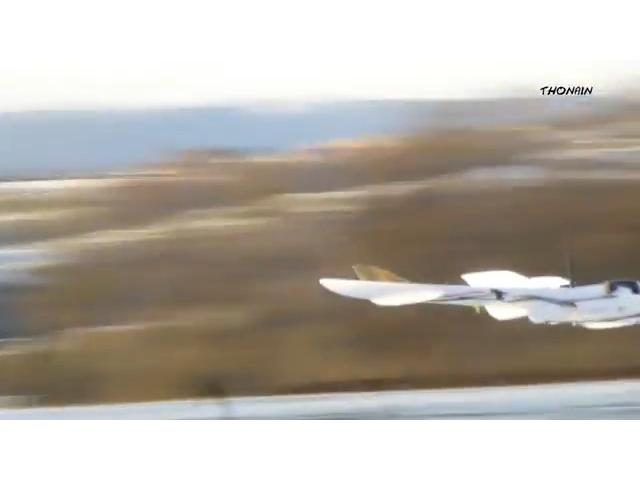Anti-Drone: (308, 226, 640, 360)
